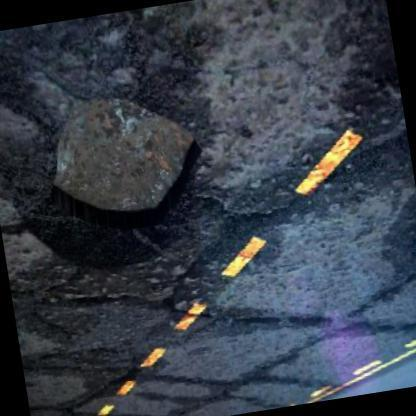pothole: (47, 84, 205, 224)
